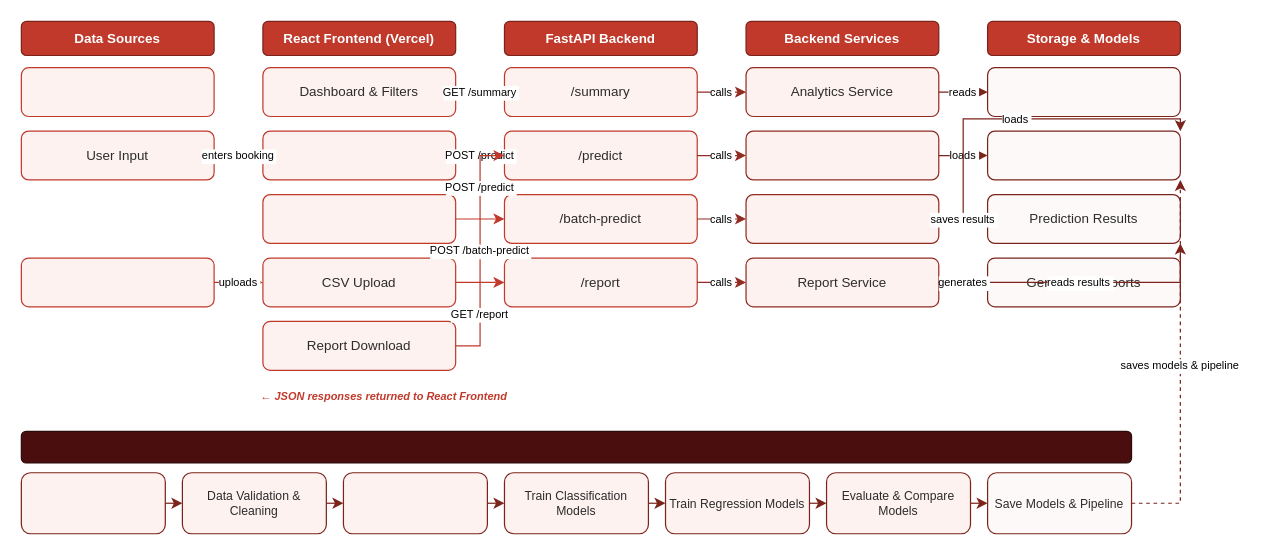
Some shapes in this 1263 by 555 pixel diagram are drawn without their labels. Each missing label, with the centre of its shape:
Batch Prediction Service: [842,218]
Feature Engineering & Encoding: [414,503]
Kaggle Hotel Reservations CSV: [117,91]
Offline Model Training — run once before deployment: [576,446]
Prediction Form: [359,155]
Prediction Pipeline: [842,155]
Processed Dataset: [1083,91]
Raw Hotel Reservations Dataset: [92,503]
Saved Models (.pkl): [1083,155]
Uploaded Batch CSV: [117,282]
What-If Simulator: [359,218]
